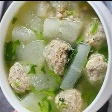dongguawanzi: (2, 0, 107, 112)
